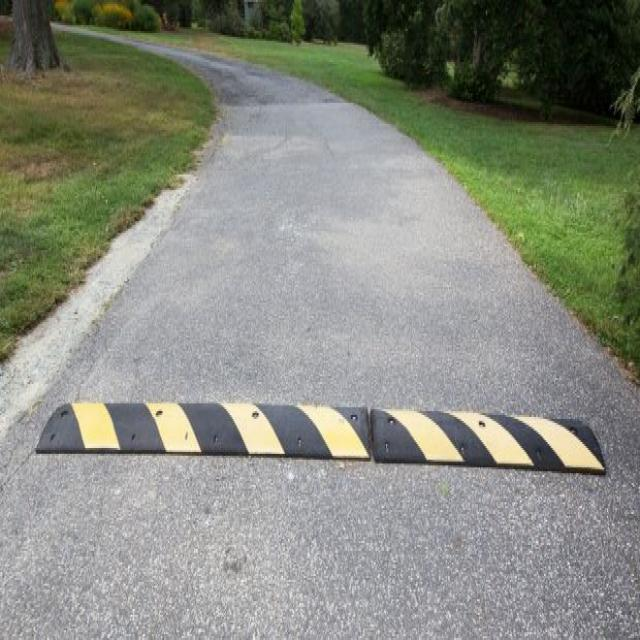Marked Bump: (47, 387, 368, 470), (385, 397, 618, 483)
